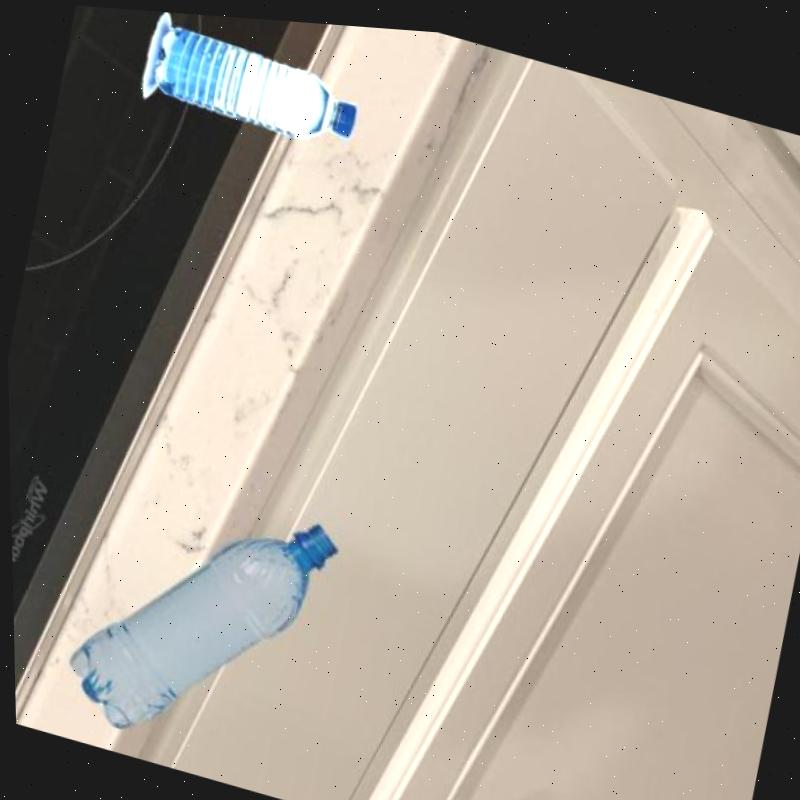botella: (48, 459, 346, 783), (142, 8, 370, 154)
